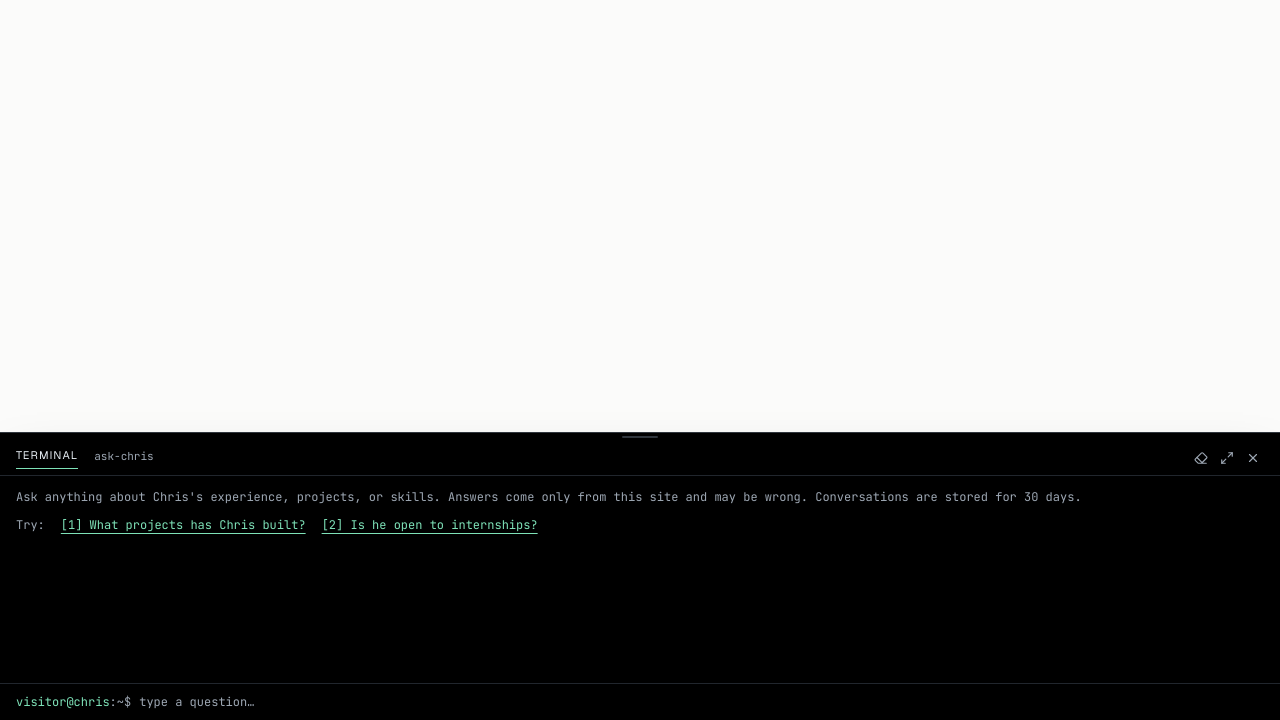
ChatTerminal feedback › sends the rating, thanks the visitor, and locks both buttons
The width and height of the screenshot is (1280, 720).
Type "FastAPI?" into the field named "Ask a question about Chris".
click(702, 702); type("FastAPI?")  # box x1=139 y1=694 x2=1264 y2=710
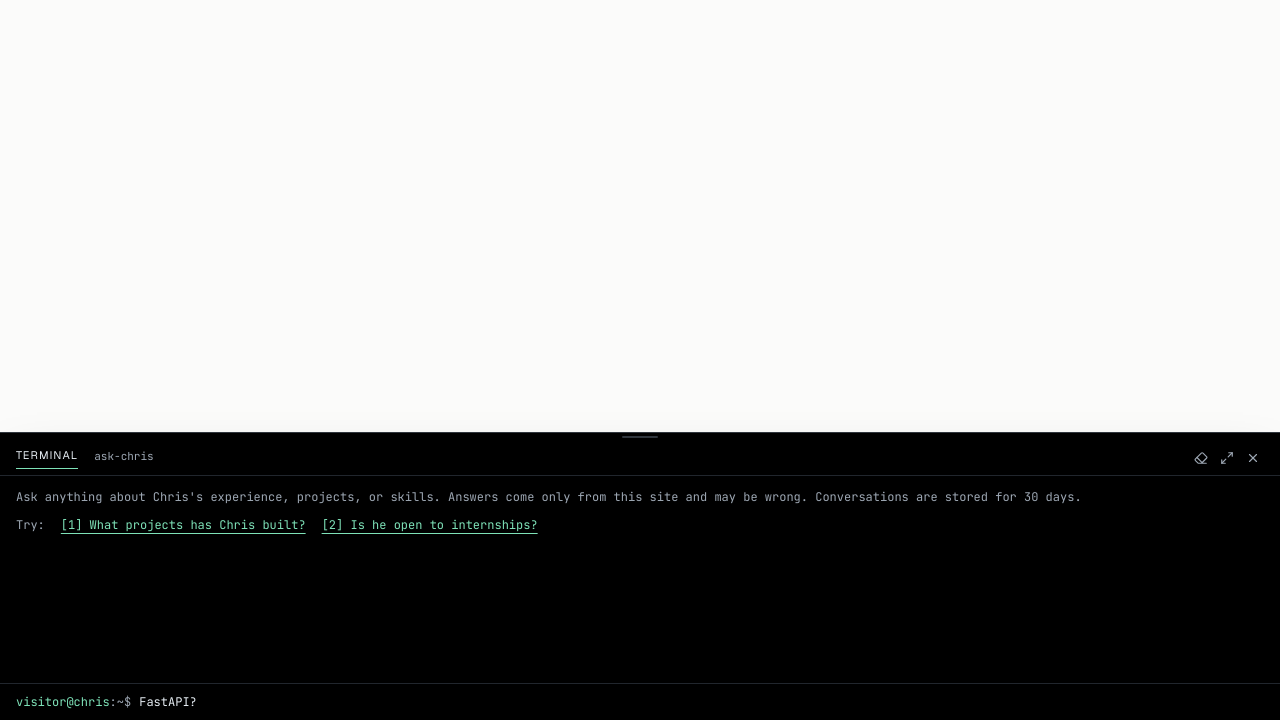
Submit the form, box x1=0 y1=683 x2=1279 y2=719
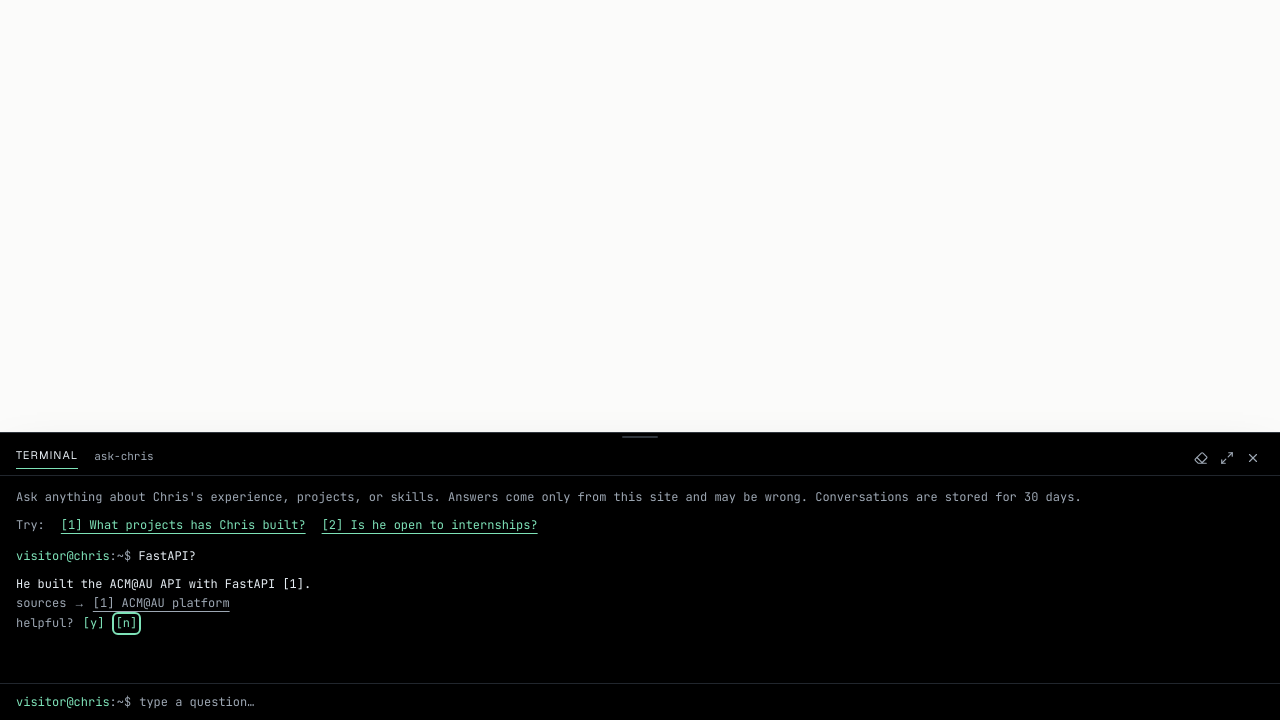
Click the button named "[n] Mark answer not helpful".
click(126, 623)  # box x1=114 y1=614 x2=139 y2=633
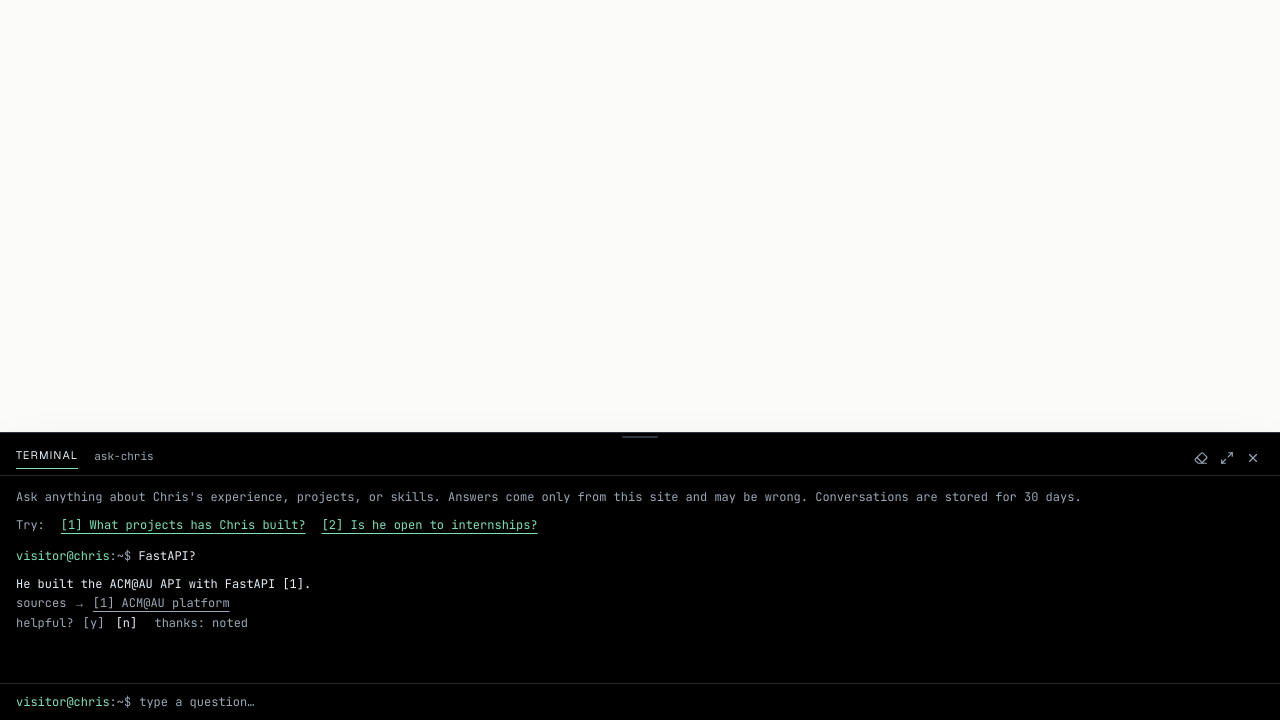
Expected: the button named "[y] Mark answer helpful" is disabled, x1=81 y1=614 x2=106 y2=633
Expected: the button named "[n] Mark answer not helpful" is disabled, x1=114 y1=614 x2=139 y2=633
